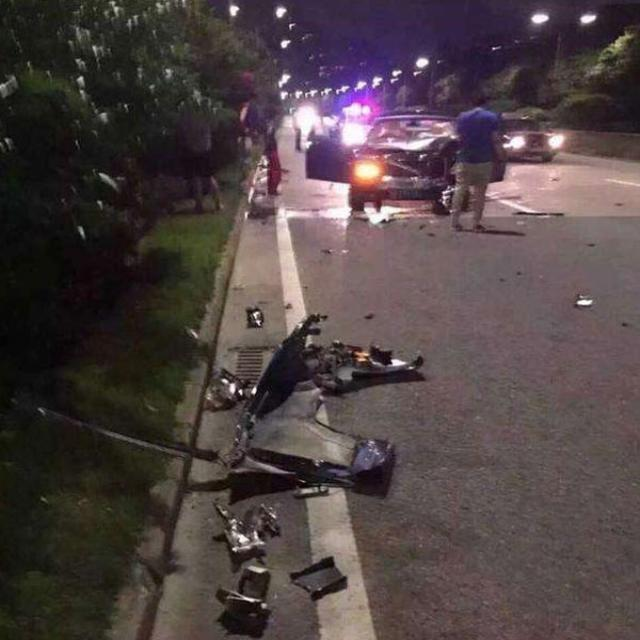accident: (317, 90, 499, 222)
